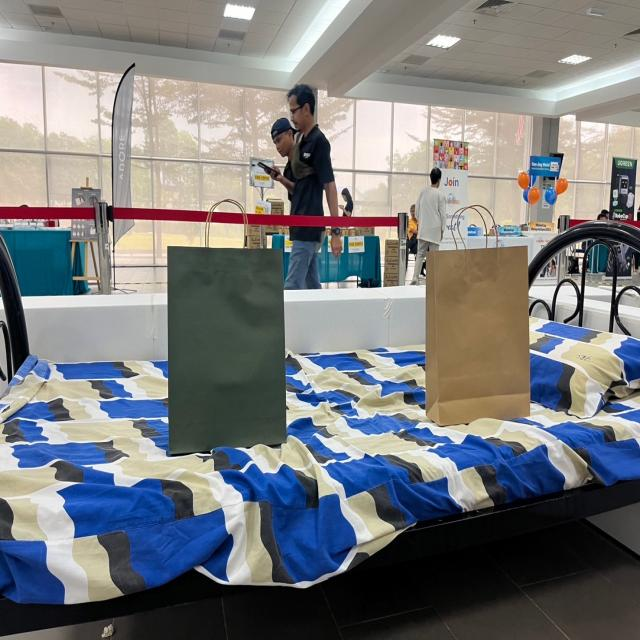bag: (165, 247, 290, 446), (431, 190, 528, 432)
